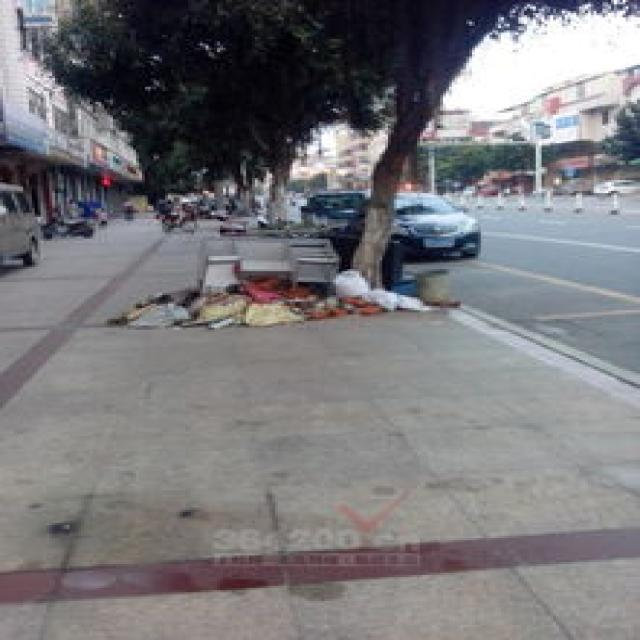garbage: (104, 267, 434, 330)
